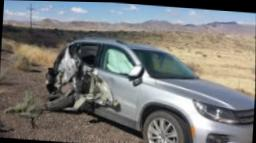Bumper: (43, 67, 57, 91)
Door: (54, 39, 118, 110)
